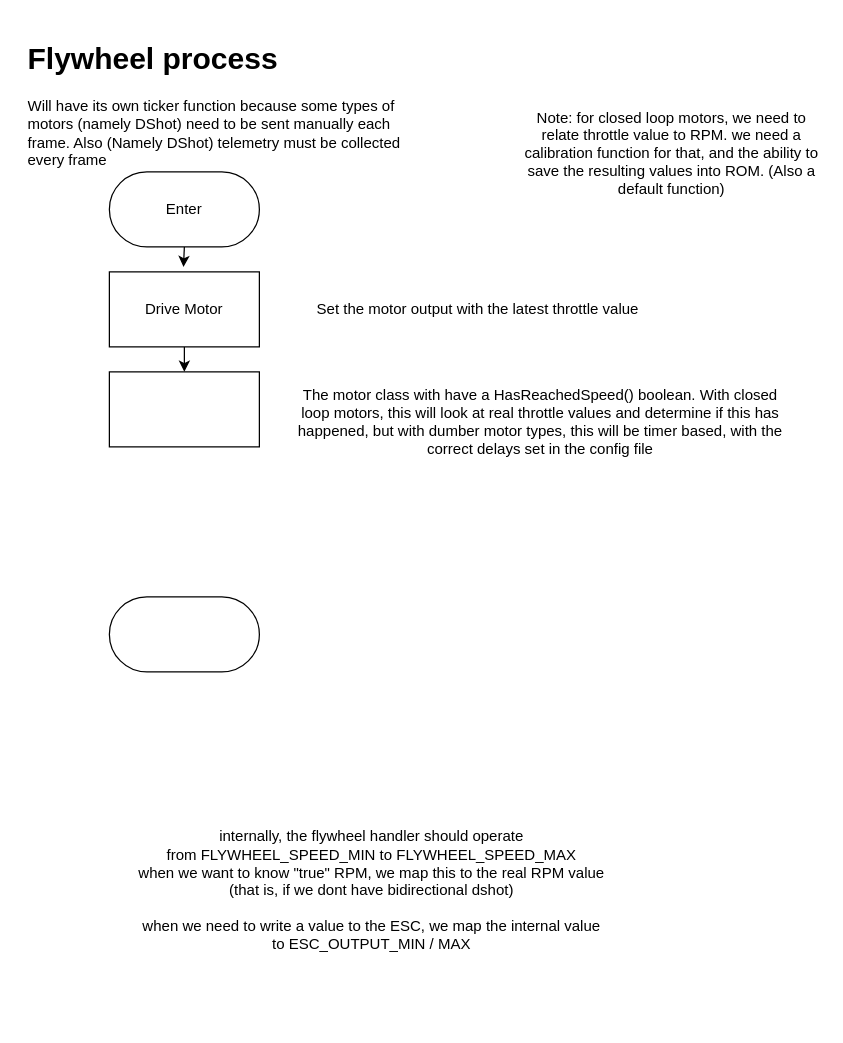
Some shapes in this 843 by 1043 pixel diagram are drawn without their labels. Each missing label, with the centre of its shape:
Process speed: point 183,409
Return: point 183,634
